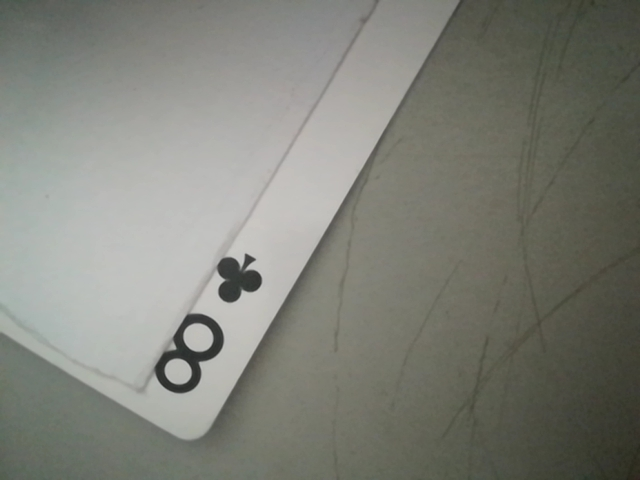mh 8: (136, 243, 272, 414)
